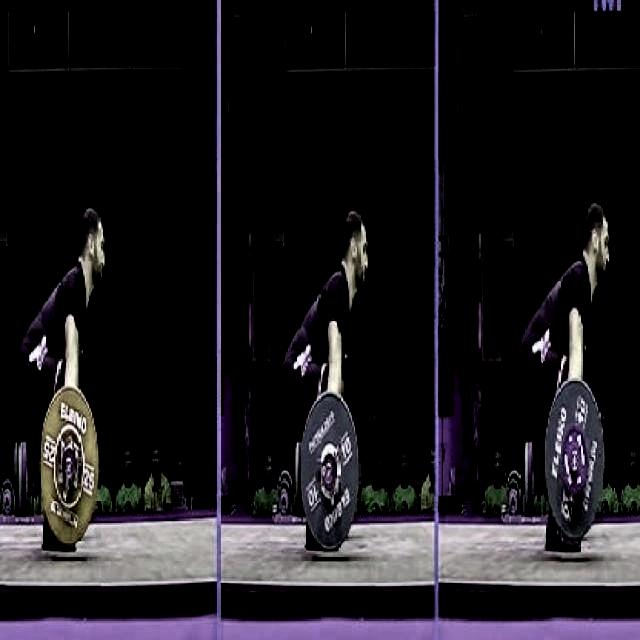barbell: (535, 357, 610, 550), (290, 375, 370, 555), (37, 375, 106, 550)
